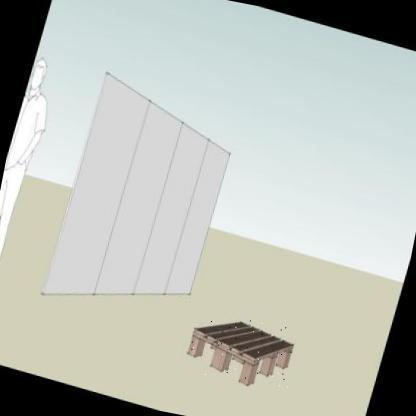pallet: (183, 319, 299, 392)
